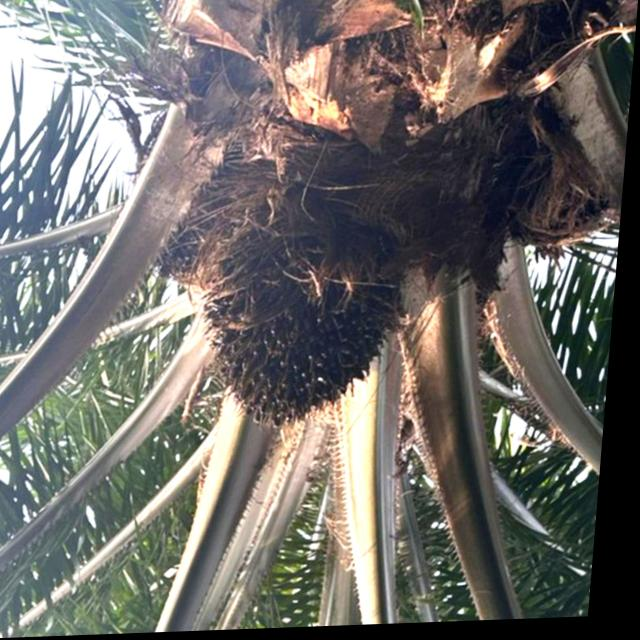almost: (201, 211, 409, 441)
